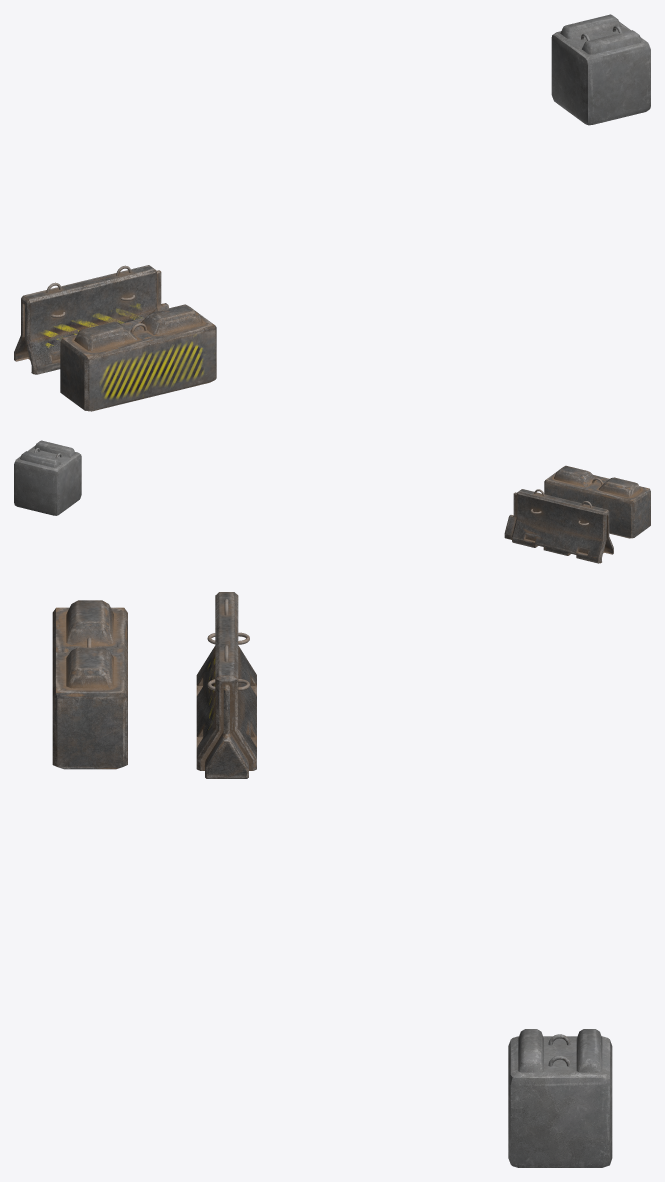
File: Barrier_block_1.FBX
3 renders of one model, top to bottom at view 1: azimuth 30°, elevation 25°; view 2: azimuth 150°, elevation 25°; view 3: azimuth 270°, elevation 25°, orthographic. The views are drawn at different scales.
Parts seen in each view (by area): view 1: Box004, Box002, Box003; view 2: Box003, Box002, Box004; view 3: Box002, Box004, Box003.
Part boxes in pixels (<box>): Box004: <box>60,304,216,411</box>; Box002: <box>551,14,650,125</box>; Box003: <box>14,265,168,374</box>; Box003: <box>504,489,613,563</box>; Box002: <box>14,440,81,515</box>; Box004: <box>544,465,650,538</box>; Box002: <box>508,1029,612,1167</box>; Box004: <box>52,600,127,769</box>; Box003: <box>196,592,256,778</box>.
Bounding box in the file's own units: 333 × 33.55 × 161.
